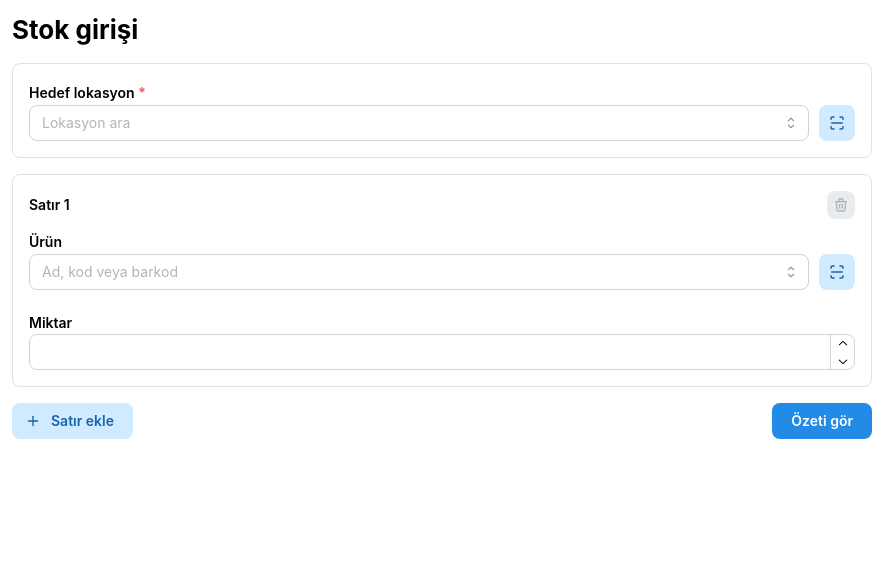
StockInPage › validates lines before submitting
Click the button "Özeti gör" at (822,422), box [772, 404, 872, 440]
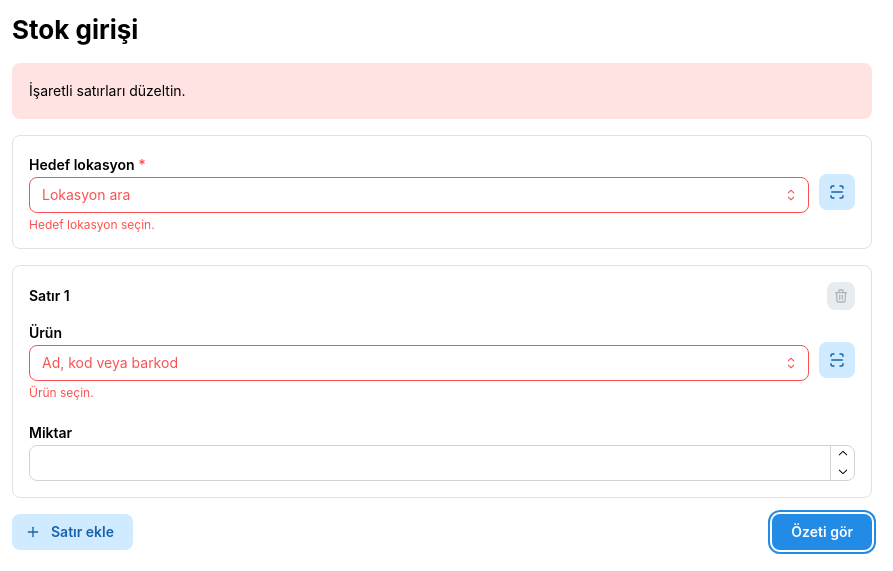
Expected: the text "Hedef lokasyon seçin." is shown, [29, 217, 155, 232]
Expected: the text "Ürün seçin." is shown, [29, 385, 94, 400]
